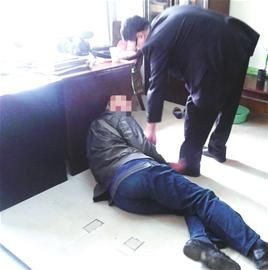fall: (80, 89, 268, 267)
